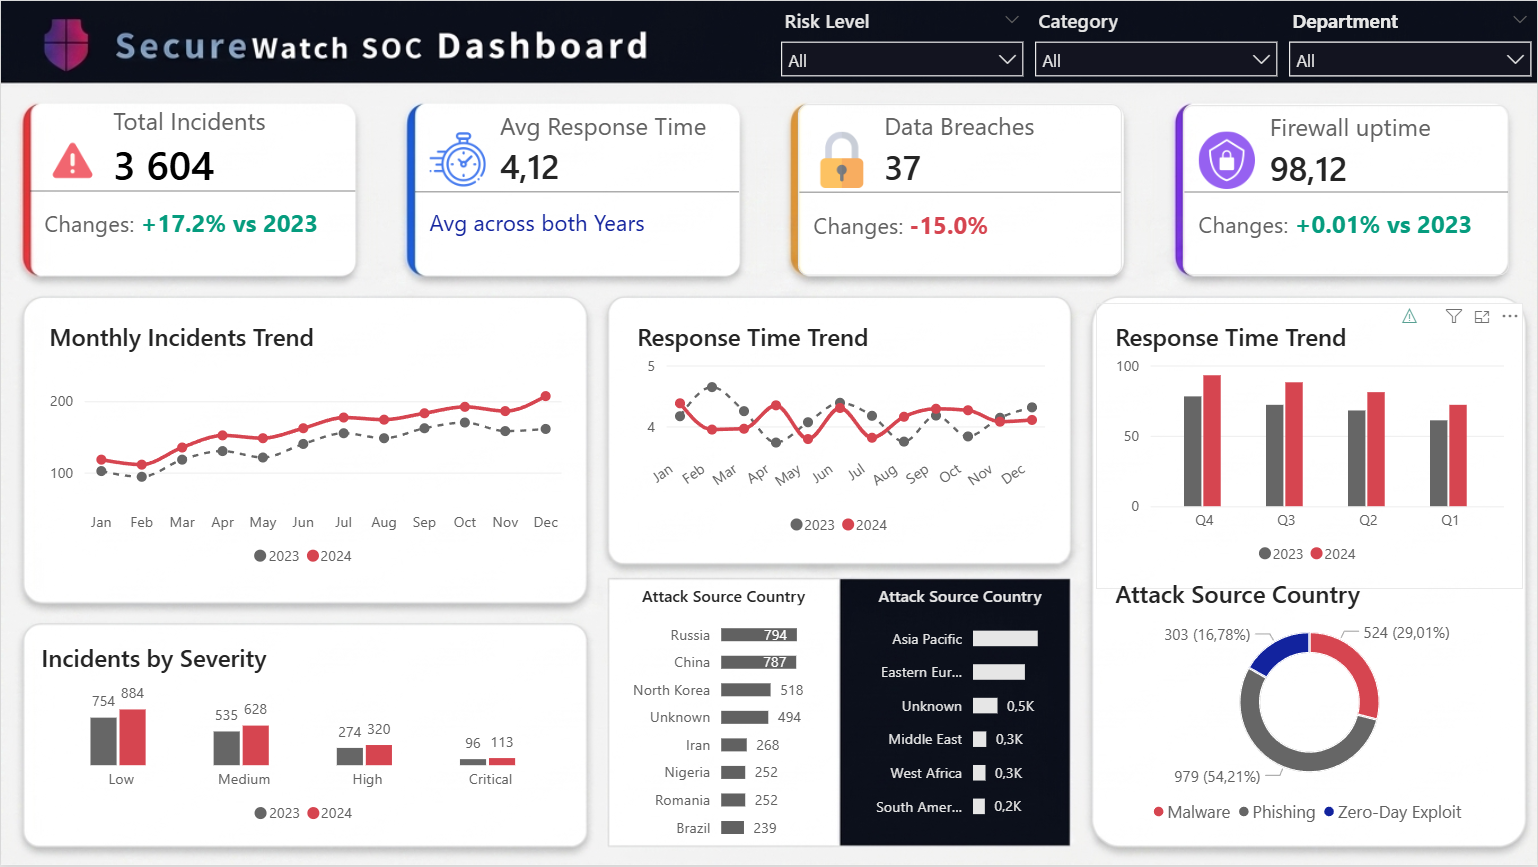

The dashboard page shown, as its layout file describes it:
{"tool":"powerbi","page":{"name":"Page 1","canvas":[1280,720],"ordinal":0},"visuals":[{"type":"cardVisual","fields":{"Data":["DAX House.Total Incidents"]},"box":[24.2,85.8,271.7,143.3],"z":0},{"type":"cardVisual","fields":{"Data":["DAX House.Avg Response Time"]},"box":[345,87.5,270.8,141.7],"z":1000},{"type":"cardVisual","fields":{"Data":["DAX House.Data Breaches"]},"box":[664.2,85.8,270,143.3],"z":2000},{"type":"cardVisual","fields":{"Data":["DAX House.Firewall uptime"]},"box":[985,86.7,272.5,142.5],"z":3000},{"type":"lineChart","title":"Monthly Incidents Trend","fields":{"Category":["dim_date.MonthAbbr"],"Y":["DAX House.Total Incidents"],"Series":["dim_date.Year"]},"box":[24.2,251.7,459.2,240],"z":3001},{"type":"lineChart","title":"Response Time Trend","fields":{"Category":["dim_date.MonthAbbr"],"Series":["dim_date.Year"],"Y":["DAX House.Avg Response Time"]},"box":[514.2,251.7,371.7,214.2],"z":3002},{"type":"clusteredColumnChart","title":"Response Time Trend","fields":{"Category":["dim_date.Quarter"],"Series":["dim_date.Year"],"Y":["DAX House.Patch Rate"]},"box":[912.5,251.7,355.8,238.3],"z":3003},{"type":"clusteredColumnChart","title":"Incidents by Severity","fields":{"Category":["dim_severity.Severity"],"Y":["DAX House.Total Incidents"],"Series":["dim_date.Year"]},"box":[17.5,519.2,473.3,186.7],"z":3004},{"type":"barChart","title":"Attack Source Country","fields":{"Category":["dim_attack_source.Country"],"Y":["DAX House.Total Incidents"]},"box":[504.2,472.5,195.8,247.5],"z":3005},{"type":"barChart","title":"Attack Source Country","fields":{"Category":["dim_attack_source.Region"],"Y":["DAX House.Total Incidents"]},"box":[700,472.5,198.3,233.3],"z":3006},{"type":"donutChart","title":"Attack Source Country","fields":{"Y":["DAX House.Total Incidents"],"Series":["dim_attack_type.AttackType"]},"box":[912.5,465.8,355.8,240],"z":3007},{"type":"slicer","fields":{"Values":["dim_department.Department"]},"box":[1068.3,5.8,211.7,63.3],"z":3008},{"type":"slicer","fields":{"Values":["dim_department.Department"]},"box":[1068.3,5.8,211.7,63.3],"z":3010},{"type":"slicer","fields":{"Values":["dim_attack_type.Category"]},"box":[856.7,5.8,211.7,63.3],"z":3011},{"type":"slicer","fields":{"Values":["dim_attack_type.RiskLevel"]},"box":[645,5.8,211.7,63.3],"z":3012}]}

Visuals, with their boxes in screenshot pixels (x1, y1, x2, y2), scaled from the page's 1280x720 canvas onto the 1538x867 screenshot:
cardVisual - DAX House.Total Incidents: box=[29, 103, 356, 276]
cardVisual - DAX House.Avg Response Time: box=[415, 105, 740, 276]
cardVisual - DAX House.Data Breaches: box=[798, 103, 1122, 276]
cardVisual - DAX House.Firewall uptime: box=[1184, 104, 1511, 276]
"Monthly Incidents Trend" lineChart: box=[29, 303, 581, 592]
"Response Time Trend" lineChart: box=[618, 303, 1064, 561]
"Response Time Trend" clusteredColumnChart: box=[1096, 303, 1524, 590]
"Incidents by Severity" clusteredColumnChart: box=[21, 625, 590, 850]
"Attack Source Country" barChart: box=[606, 569, 841, 866]
"Attack Source Country" barChart: box=[841, 569, 1079, 850]
"Attack Source Country" donutChart: box=[1096, 561, 1524, 850]
slicer - dim_department.Department: box=[1284, 7, 1537, 83]
slicer - dim_department.Department: box=[1284, 7, 1537, 83]
slicer - dim_attack_type.Category: box=[1029, 7, 1284, 83]
slicer - dim_attack_type.RiskLevel: box=[775, 7, 1029, 83]
